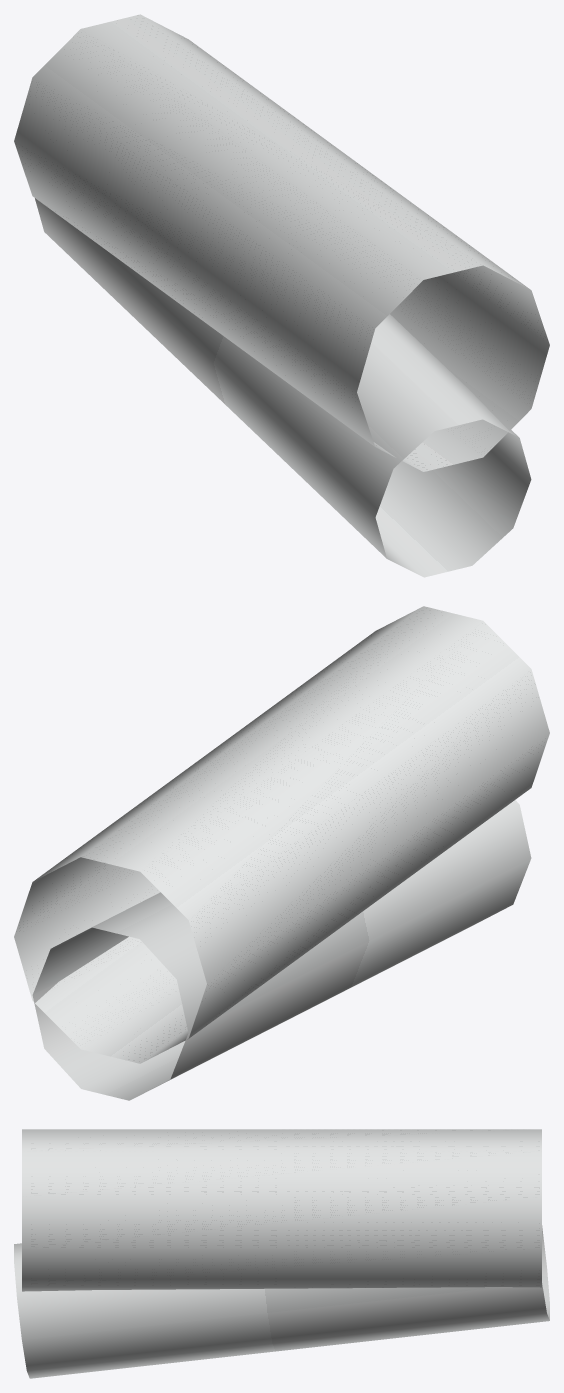
Rendered from trusssignalarm_level10_c14.obj.
The picture shows the model from 3 angles, top to bottom: view 1: azimuth 30°, elevation 25°; view 2: azimuth 150°, elevation 25°; view 3: azimuth 270°, elevation 25°; orthographic projection. The views are drawn at different scales.
Visible parts, largest first — view 1: trusssignalarm_level10_c14; view 2: trusssignalarm_level10_c14; view 3: trusssignalarm_level10_c14.
Part boxes in pixels (x1,y1,x2,y2): trusssignalarm_level10_c14: (14, 14, 549, 577); trusssignalarm_level10_c14: (14, 606, 549, 1100); trusssignalarm_level10_c14: (14, 1129, 549, 1378).
Bounding box in the file's own units: 0.325 × 0.4872 × 1.03.
